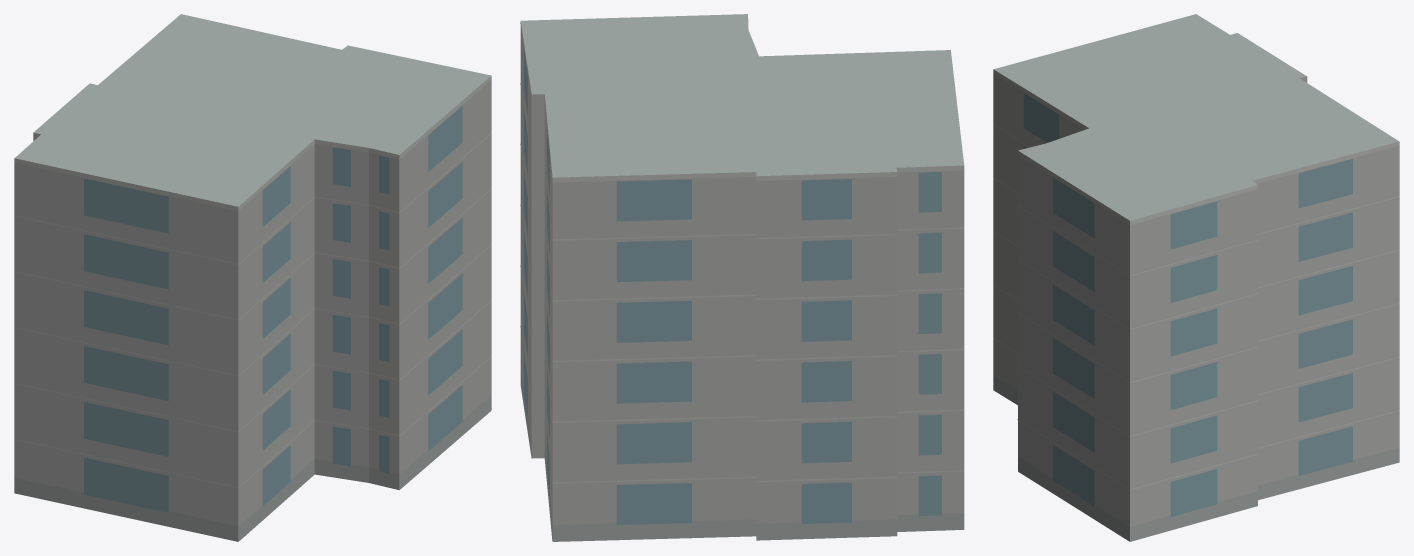
The model's file is survey-upis-32846027.glb.
The picture shows the model from 3 angles, left to right: view 1: azimuth 30°, elevation 25°; view 2: azimuth 150°, elevation 25°; view 3: azimuth 270°, elevation 25°; orthographic projection. The views are drawn at different scales.
Visible parts, largest first — view 1: survey-upis-32846027.tmp; view 2: survey-upis-32846027.tmp; view 3: survey-upis-32846027.tmp.
Part boxes in pixels (box(x1,y1,x2,y2)): survey-upis-32846027.tmp: box(14, 14, 491, 541); survey-upis-32846027.tmp: box(520, 14, 964, 541); survey-upis-32846027.tmp: box(993, 14, 1399, 541).
Bounding box in the file's own units: 25.32 × 18.3 × 21.
